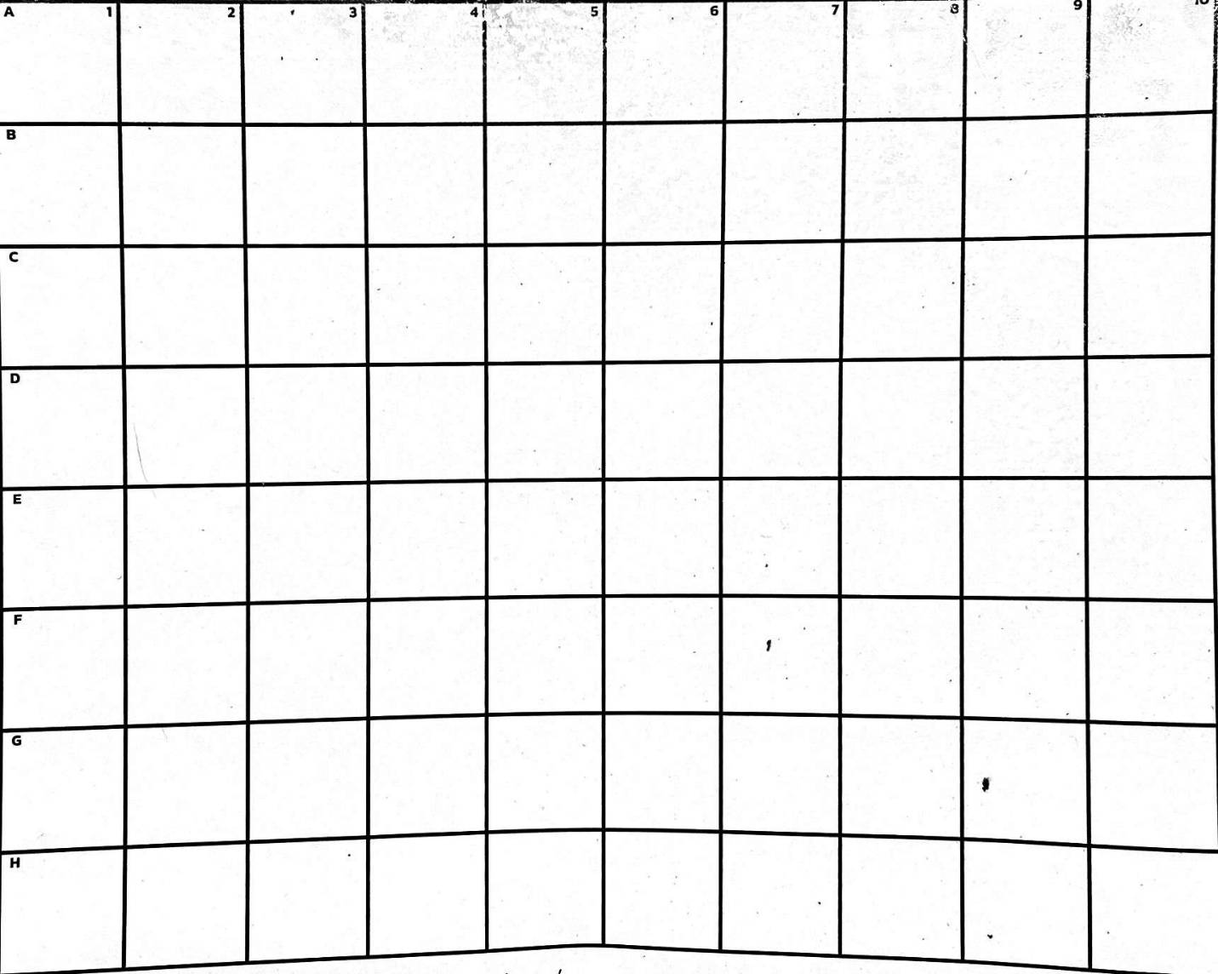test: (975, 777, 992, 797), (764, 637, 774, 653)
